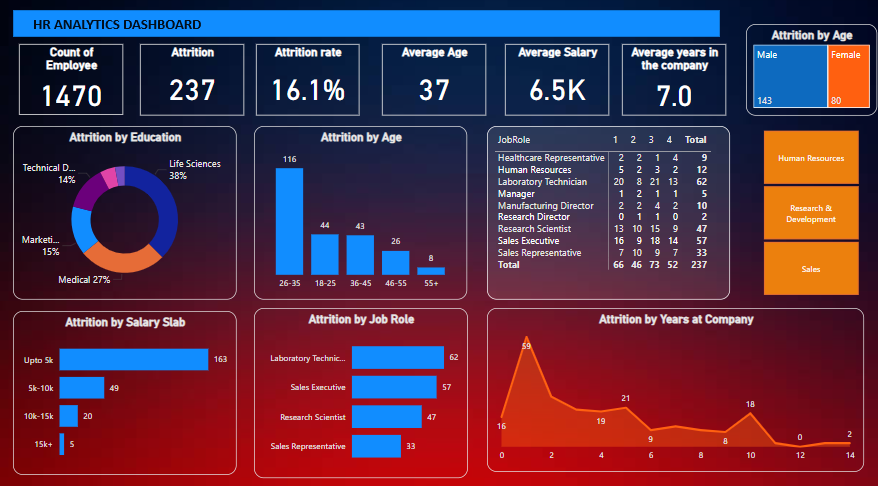

This screenshot's page, from the dashboard's own definition file:
{"tool":"powerbi","page":{"name":"Page 1","canvas":[1280,720],"ordinal":0},"visuals":[{"type":"card","title":"Count of Employee","fields":{"Values":["CountNonNull(HR_Analytics.EmpID)"]},"box":[32.1,68.3,149.5,102.5],"z":0},{"type":"card","title":"Attrition","fields":{"Values":["Sum(HR_Analytics.Attrition Count)"]},"box":[205.9,67.2,150.2,103],"z":1000},{"type":"card","title":"Attrition rate","fields":{"Values":["HR_Analytics.AttritionRate"]},"box":[372.7,68.2,148.7,103],"z":2000},{"type":"card","title":"Average Age","fields":{"Values":["Avg(HR_Analytics.Age)"]},"box":[554.3,68.2,150.2,103],"z":3000},{"type":"card","title":"Average Salary","fields":{"Values":["Avg(HR_Analytics.MonthlyIncome)"]},"box":[730.8,67.2,150.2,103],"z":4000},{"type":"card","title":"Average years in the company","fields":{"Values":["Avg(HR_Analytics.YearsAtCompany)"]},"box":[899.6,67.2,150.2,103],"z":5000},{"type":"donutChart","title":"Attrition by Education","fields":{"Category":["HR_Analytics.EducationField"],"Y":["Sum(HR_Analytics.Attrition Count)"]},"box":[22.9,185.9,321.8,250.3],"z":6000},{"type":"columnChart","title":"Attrition by Age","fields":{"Category":["HR_Analytics.AgeGroup"],"Y":["Sum(HR_Analytics.Attrition Count)"]},"box":[370.4,185.9,307.5,250.3],"z":7000},{"type":"barChart","title":"Attrition by Salary Slab","fields":{"Category":["HR_Analytics.SalarySlab"],"Y":["Sum(HR_Analytics.Attrition Count)"]},"box":[22.9,451.9,321.8,236],"z":8000},{"type":"barChart","title":"Attrition by Job Role","fields":{"Y":["Sum(HR_Analytics.Attrition Count)"],"Category":["HR_Analytics.JobRole"]},"box":[370.5,447.7,307.6,244.8],"z":9000},{"type":"areaChart","title":"Attrition by Years at Company","fields":{"Y":["Sum(HR_Analytics.Attrition Count)"],"Category":["HR_Analytics.YearsAtCompany"]},"box":[705.1,447.6,543.5,236],"z":10000},{"type":"treemap","title":"Attrition by Age","fields":{"Group":["HR_Analytics.Gender"],"Values":["Sum(HR_Analytics.Attrition Count)"]},"box":[1078.3,38.6,188.8,131.6],"z":11000},{"type":"pivotTable","fields":{"Rows":["HR_Analytics.JobRole"],"Columns":["HR_Analytics.JobSatisfaction"],"Values":["Sum(HR_Analytics.Attrition Count)"]},"box":[705.1,185.9,350.4,250.3],"z":12000},{"type":"slicer","fields":{"Values":["HR_Analytics.Department"]},"box":[1078.3,185.9,185.9,250.3],"z":13000},{"type":"shape","box":[31.5,18.6,1018.3,38.6],"z":14000}]}

Visuals, with their boxes in screenshot pixels (x1, y1, x2, y2), scaled from the page's 1280x720 canvas onto the 878x486 screenshot:
"Count of Employee" card: 22 46 125 115
"Attrition" card: 141 45 244 115
"Attrition rate" card: 256 46 358 116
"Average Age" card: 380 46 483 116
"Average Salary" card: 501 45 604 115
"Average years in the company" card: 617 45 720 115
"Attrition by Education" donutChart: 16 125 236 294
"Attrition by Age" columnChart: 254 125 465 294
"Attrition by Salary Slab" barChart: 16 305 236 464
"Attrition by Job Role" barChart: 254 302 465 467
"Attrition by Years at Company" areaChart: 484 302 856 461
"Attrition by Age" treemap: 740 26 869 115
pivotTable - HR_Analytics.JobRole x HR_Analytics.JobSatisfaction: 484 125 724 294
slicer - HR_Analytics.Department: 740 125 867 294
shape: 22 13 720 39
